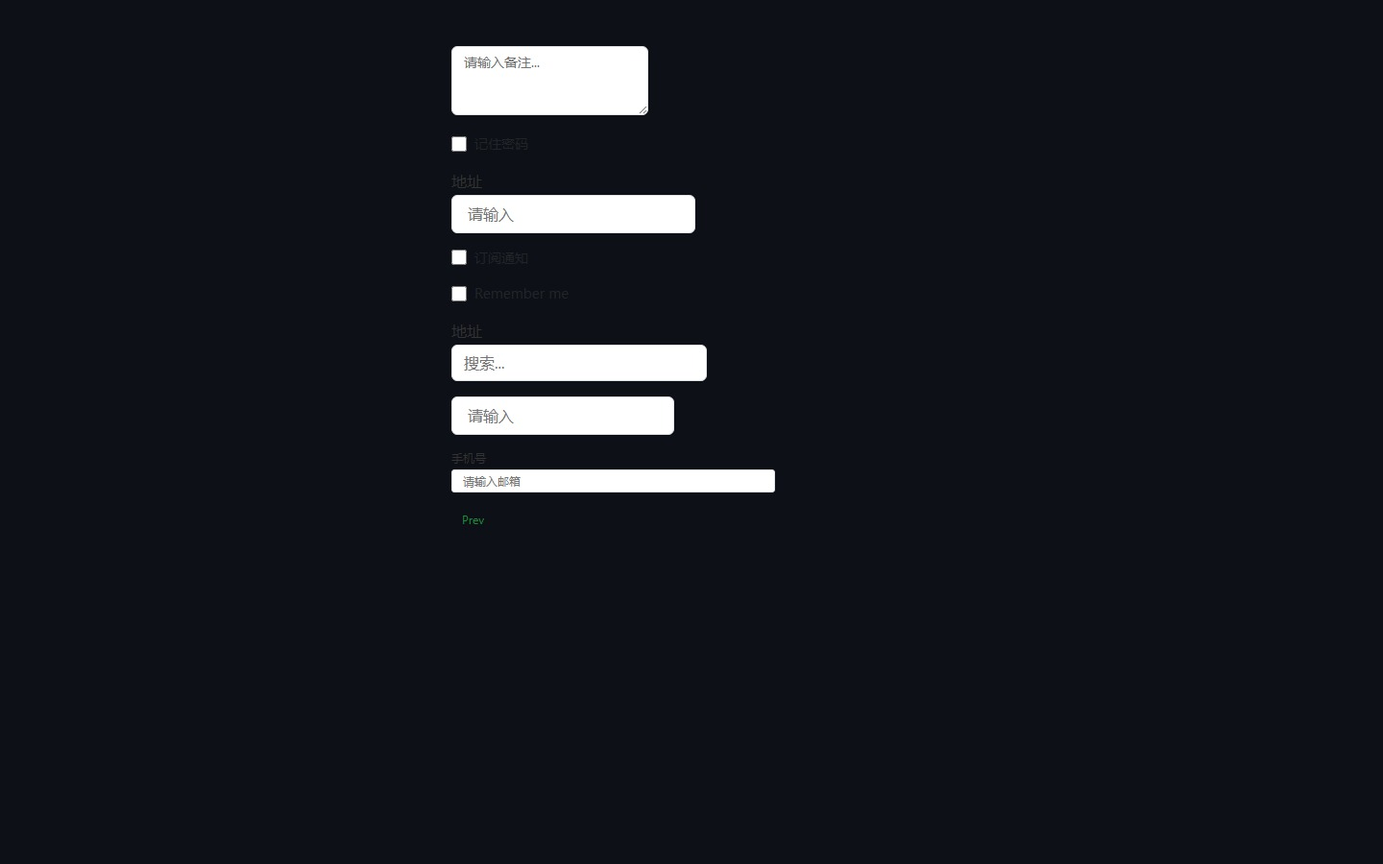button: (451, 508, 495, 529)
checkbox: (451, 136, 467, 151), (451, 250, 467, 265), (451, 286, 467, 301)
icon: (474, 284, 569, 302), (474, 134, 528, 153), (474, 248, 528, 266)
input: (451, 194, 695, 233), (451, 344, 707, 381), (451, 396, 674, 434), (451, 469, 775, 492)
radio: (451, 284, 569, 302), (451, 134, 528, 153), (451, 248, 528, 266)
textarea: (451, 46, 648, 115)
